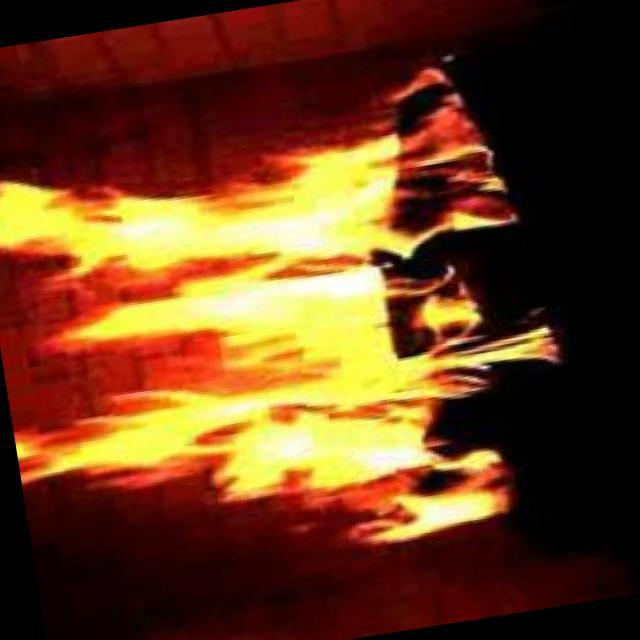Fire: (14, 131, 514, 590)
